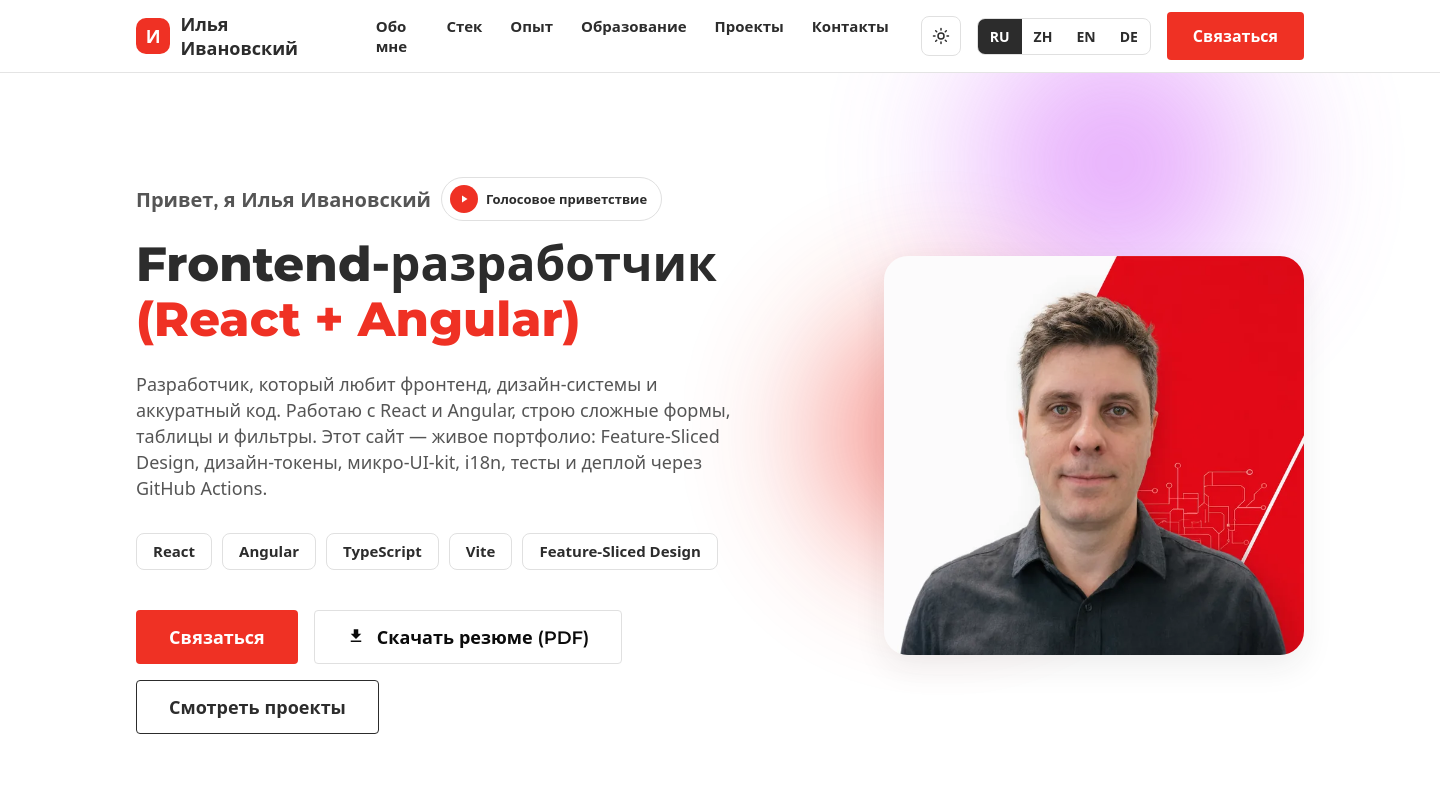
it: HomePage › switches language to English, German, Chinese and back
This screenshot has width=1440, height=810.
Click the button "EN": (1086, 36) [1064,18,1108,54]
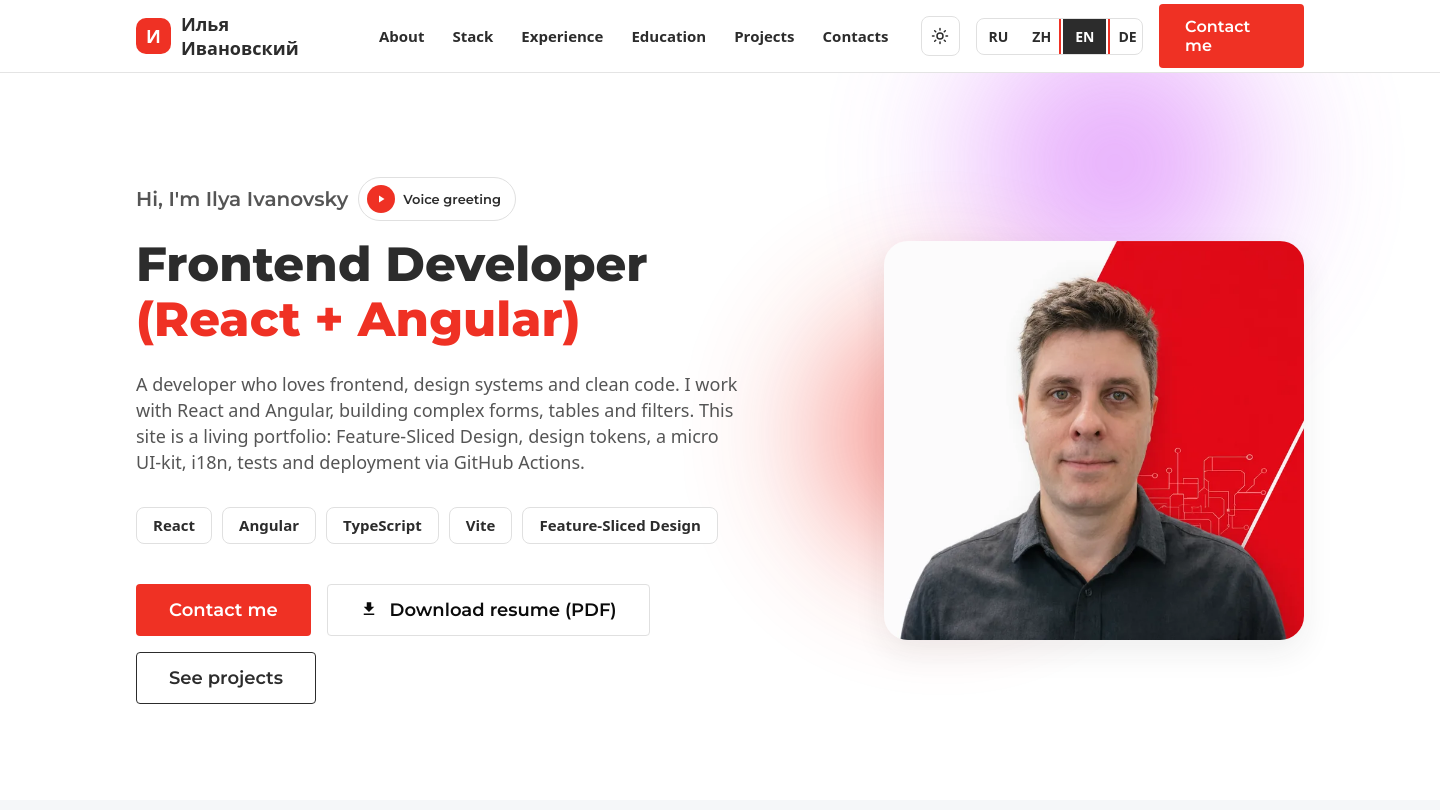
Expected: the link "About" is shown, [379,26,424,46]
Expected: the heading shows "Frontend Developer", [136,235,648,293]
Click the button "DE": (1128, 36) [1106,18,1149,54]
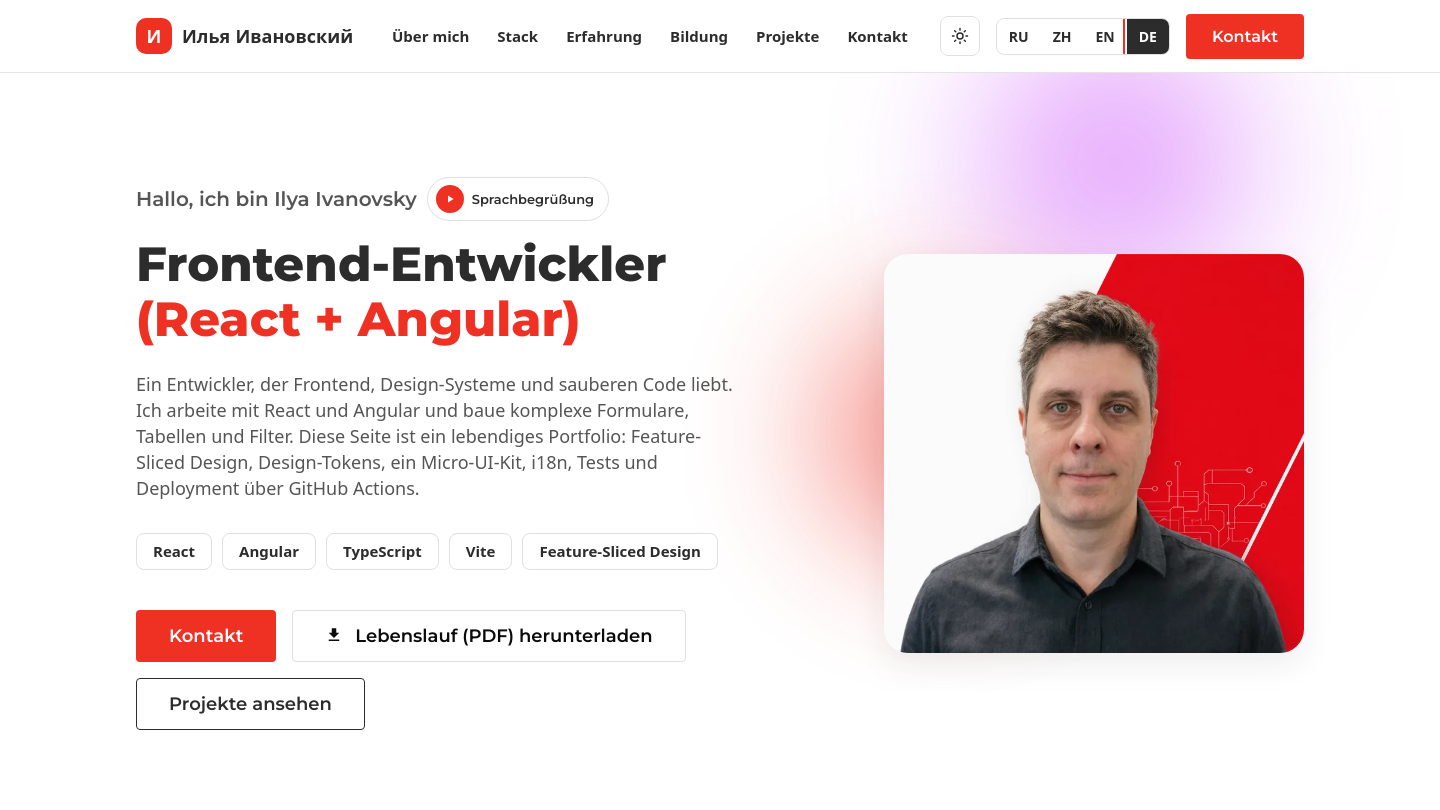
Expected: the heading shows "Frontend-Entwickler", [136,235,666,293]
Expected: the link "Über mich" is shown, [392,26,469,46]
Click the button "ZH": (1062, 36) [1041,18,1084,54]
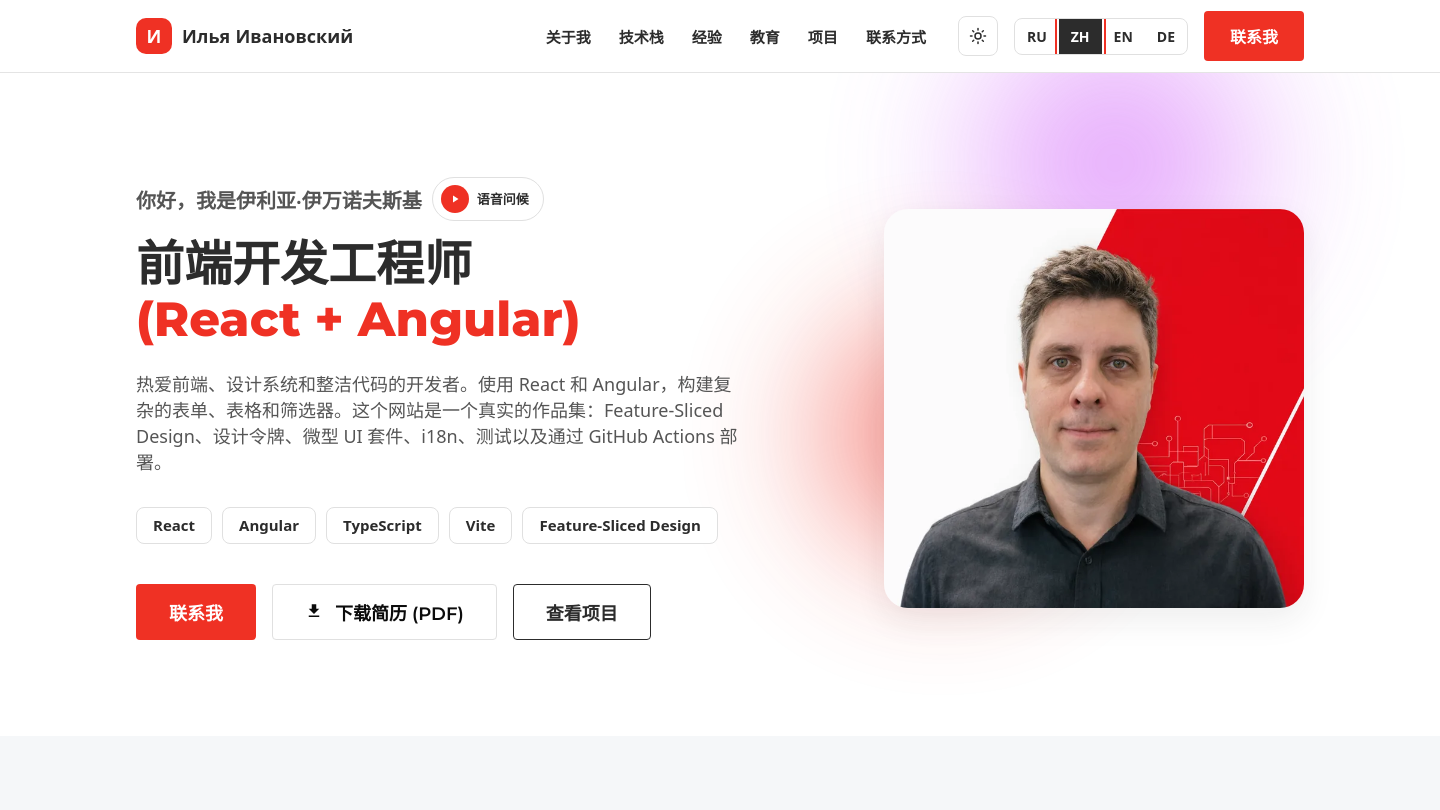
Expected: the heading shows "前端开发工程师", [136,235,472,293]
Expected: the link "关于我" is shown, [546,26,591,46]
Click the button "RU": (1037, 36) [1015,18,1059,54]
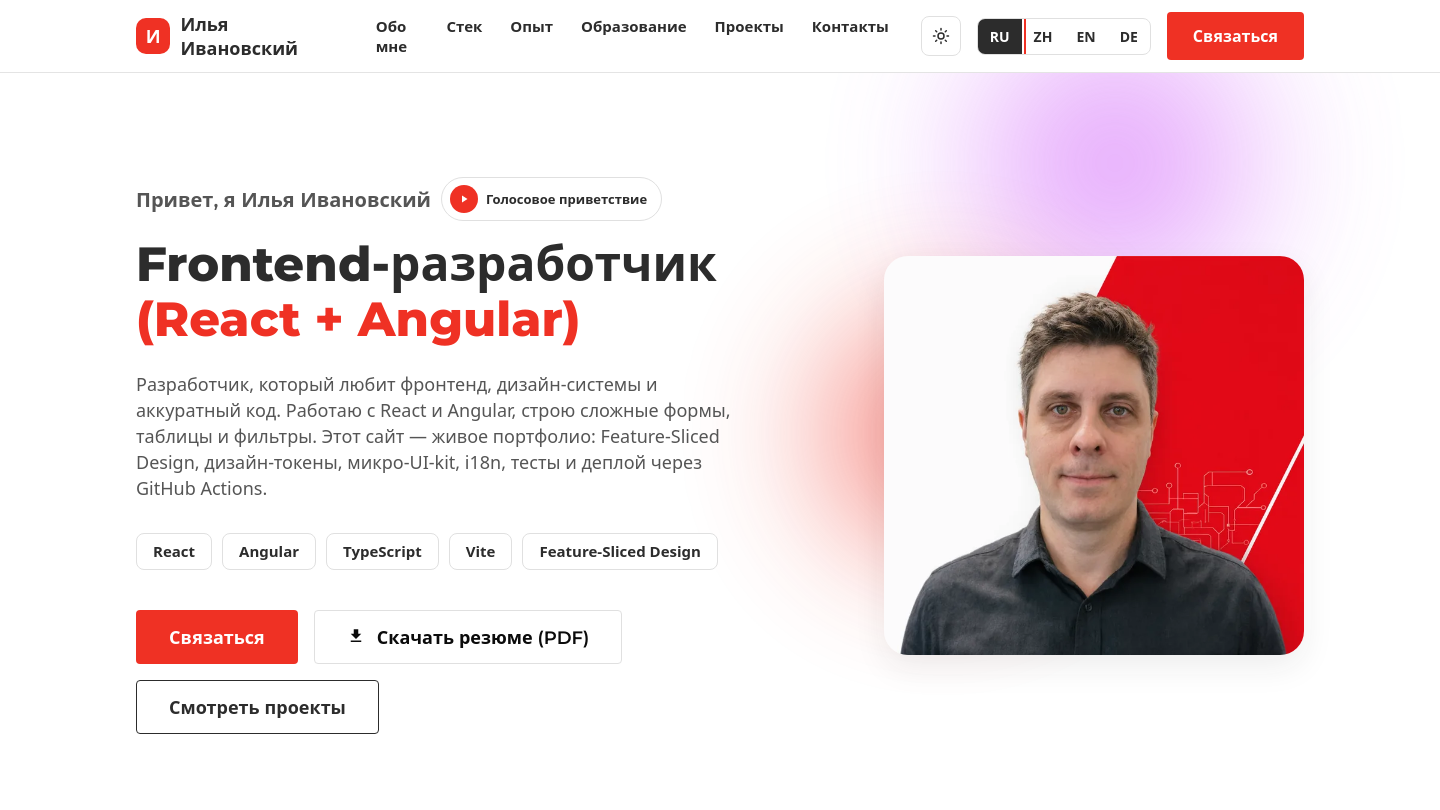
Expected: the heading shows "Frontend-разработчик", [136,235,717,293]
